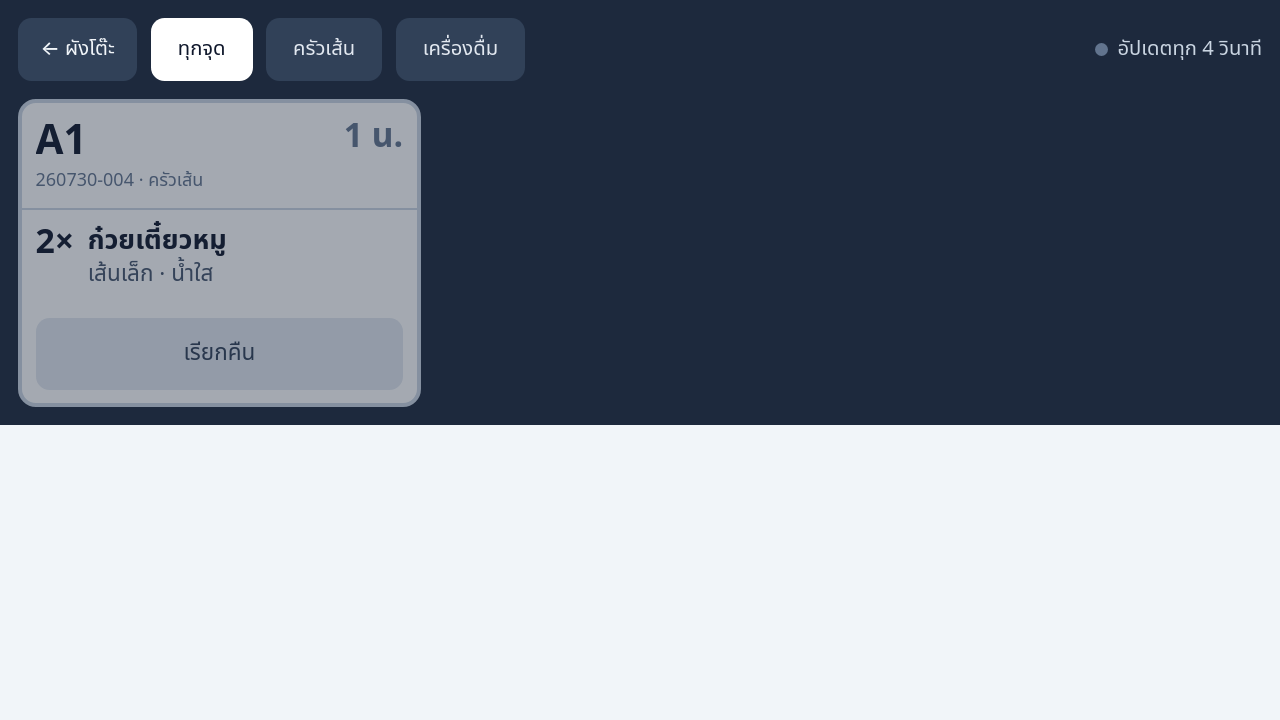
Scenario: working a ticket › shows the server’s complaint instead of failing silently
Check: the button "ครัวเส้น" is shown, box [266,18,382,81]
Click the button "เรียกคืน" at coordinates (219, 354), box [36,318,403,390]
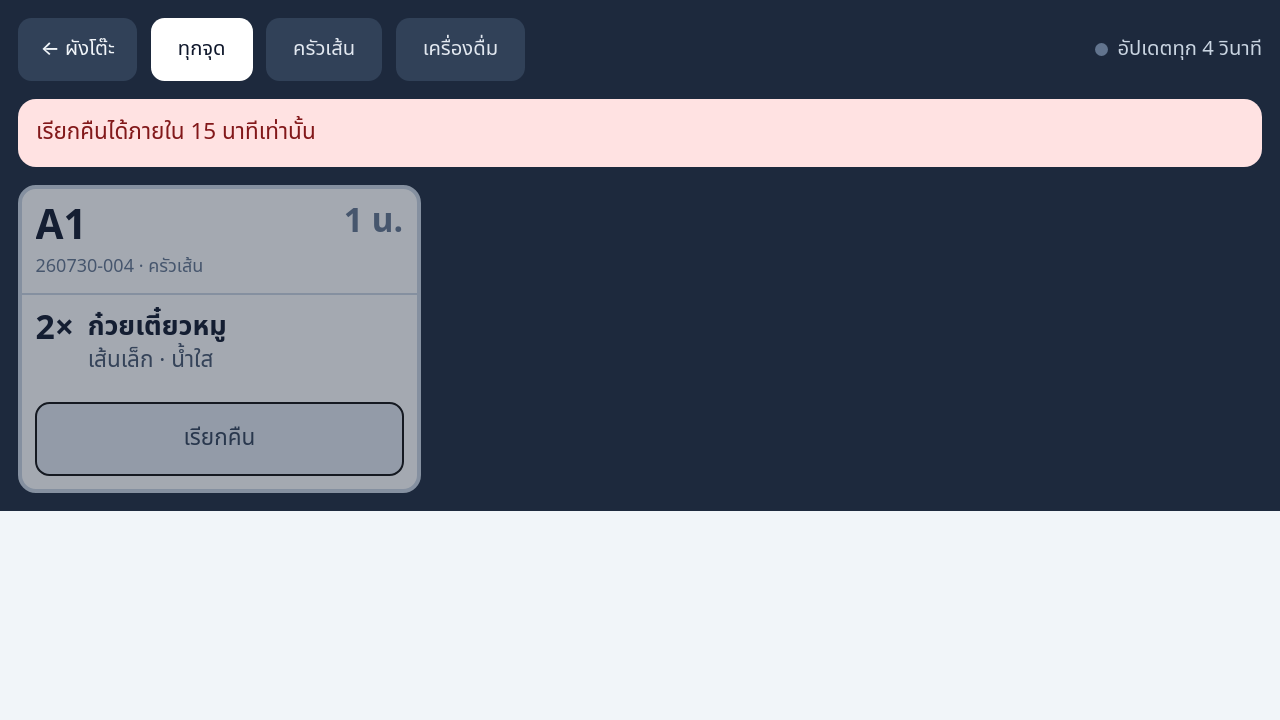
Check: the message shows "เรียกคืนได้ภายใน 15 นาที", box [36,115,316,149]
